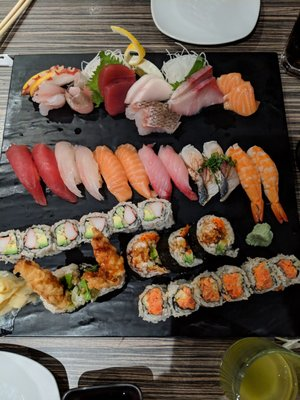pizza: (61, 385, 145, 400)
